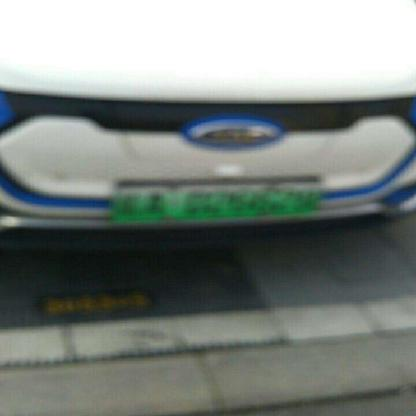lp: (114, 183, 319, 219)
